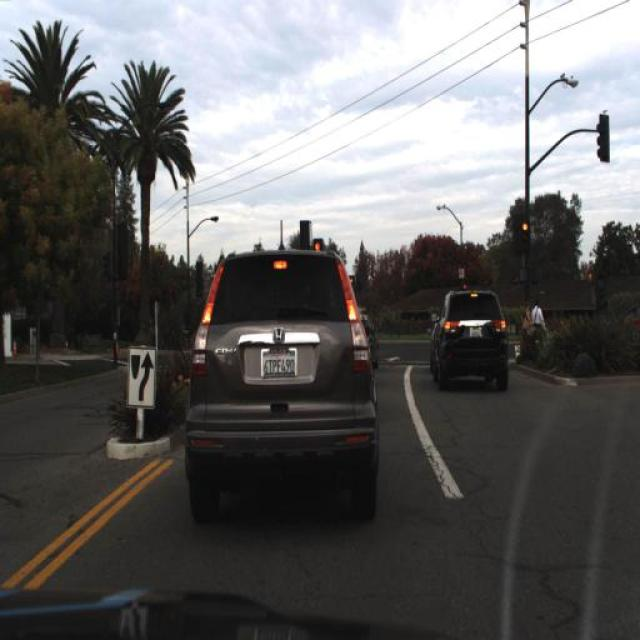car: (181, 245, 381, 530), (430, 290, 506, 390), (610, 298, 639, 346), (522, 302, 532, 342)
trafficLight: (532, 295, 542, 350), (522, 302, 532, 342)
trafficLight-RedLeft: (520, 220, 529, 250), (587, 270, 595, 296)
